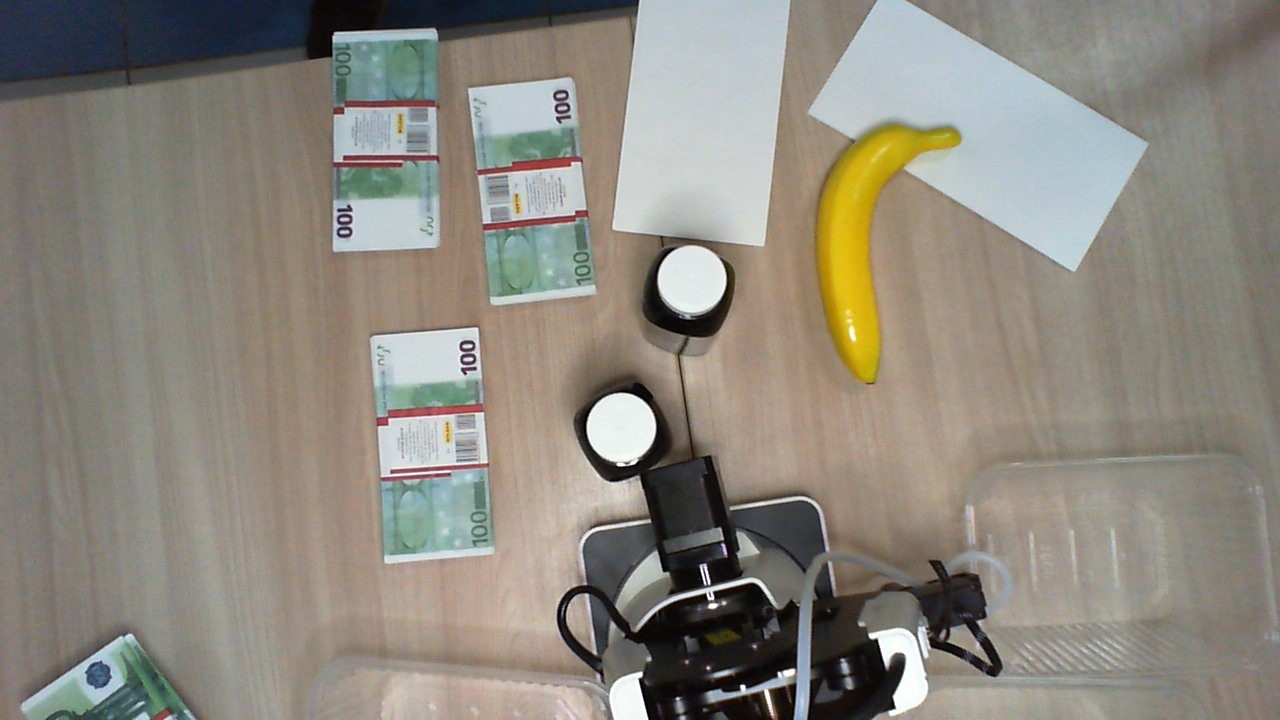banana: (813, 122, 968, 388)
bottle: (573, 383, 669, 480), (641, 249, 737, 336)
convert: (808, 1, 1149, 269), (613, 1, 795, 245)
money: (468, 78, 598, 305), (370, 326, 494, 563), (329, 29, 442, 254), (18, 635, 208, 720)
